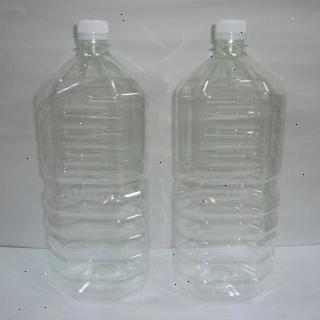Plastic-bottle: (30, 17, 158, 304), (169, 18, 289, 306)
